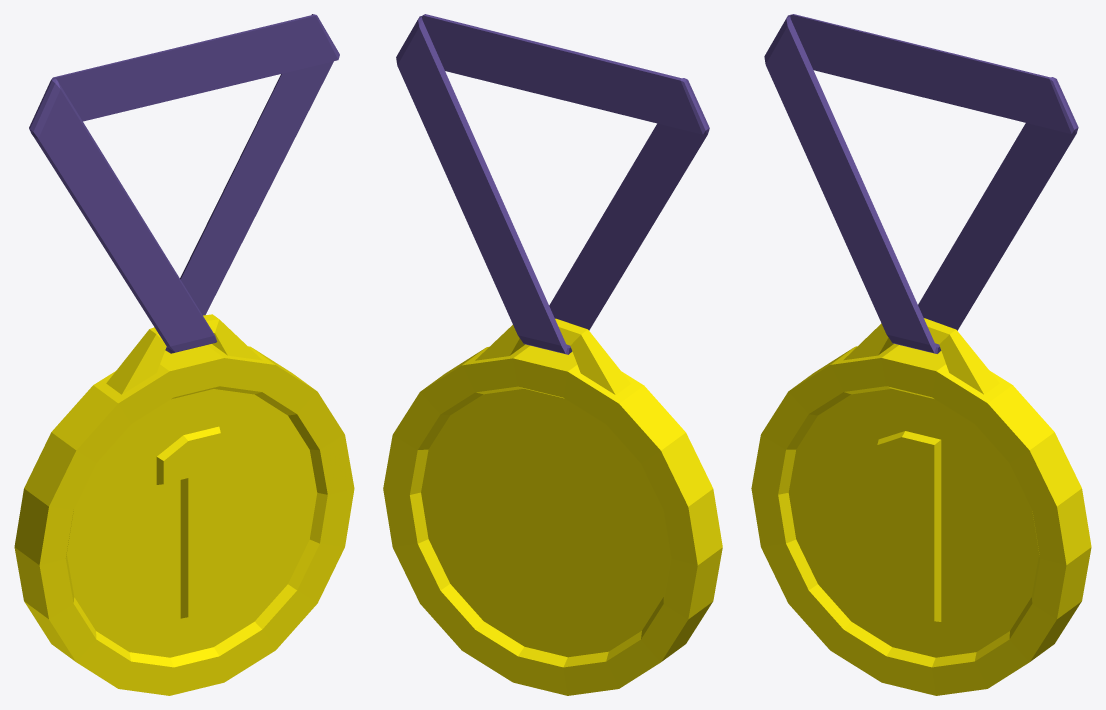
The model's file is Medalla.fbx.
3 views of the same model, side by side, from view 1: azimuth 30°, elevation 25°; view 2: azimuth 150°, elevation 25°; view 3: azimuth 330°, elevation 25° (orthographic).
Parts seen in each view (by area): view 1: Cube; view 2: Cube; view 3: Cube.
Boxes of the visible parts, <box> form: Cube: <box>14,14,354,695</box>; Cube: <box>383,14,722,695</box>; Cube: <box>751,14,1091,695</box>.
Size of the model in its own units: 200 by 385 by 27.56.
